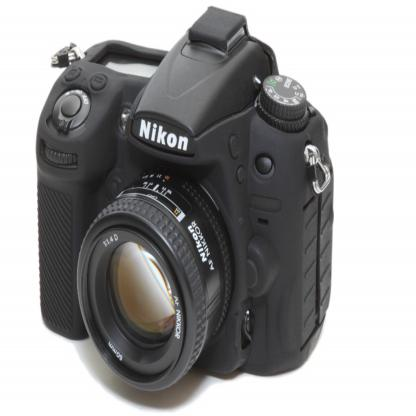Camera: (24, 9, 334, 398)
